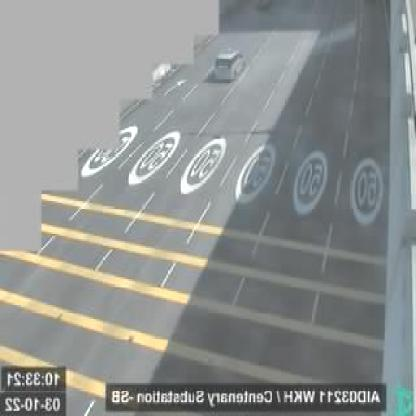Car: (214, 47, 246, 81)
